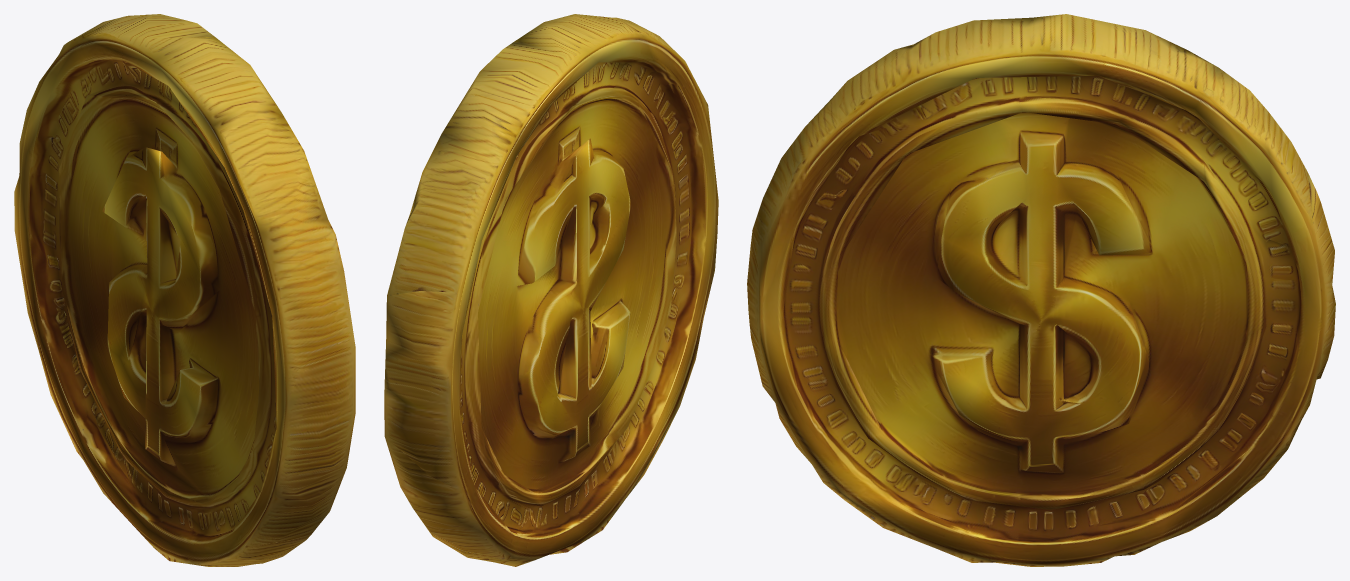
File: gold+coin.obj
3 views of the same model, side by side, from view 1: azimuth 30°, elevation 25°; view 2: azimuth 150°, elevation 25°; view 3: azimuth 270°, elevation 25° (orthographic). The views are drawn at different scales.
Parts seen in each view (by area): view 1: tripo_node_670f8c4b-1fa1-4229-9db7-da67abb9724b; view 2: tripo_node_670f8c4b-1fa1-4229-9db7-da67abb9724b; view 3: tripo_node_670f8c4b-1fa1-4229-9db7-da67abb9724b.
Boxes of the visible parts, box(x1,y1,x2,y2) form: tripo_node_670f8c4b-1fa1-4229-9db7-da67abb9724b: box(14, 14, 355, 566); tripo_node_670f8c4b-1fa1-4229-9db7-da67abb9724b: box(384, 14, 718, 566); tripo_node_670f8c4b-1fa1-4229-9db7-da67abb9724b: box(747, 14, 1335, 566).
Size of the model in its own units: 0.1484 by 1 by 1.
Materials: 1 (1 with a texture image).
